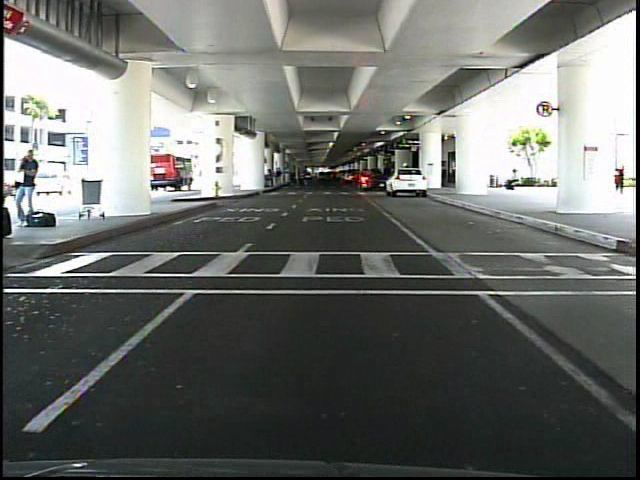person: (16, 145, 44, 230), (606, 160, 629, 200), (500, 165, 523, 196)
